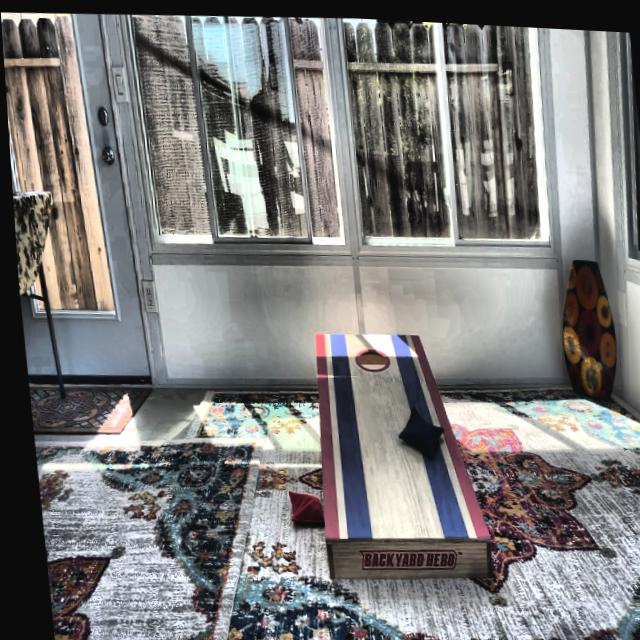blue-bean-bag: (389, 400, 438, 454)
board: (305, 324, 447, 535)
hole: (347, 340, 385, 369)
red-bean-bag: (280, 484, 315, 524)
